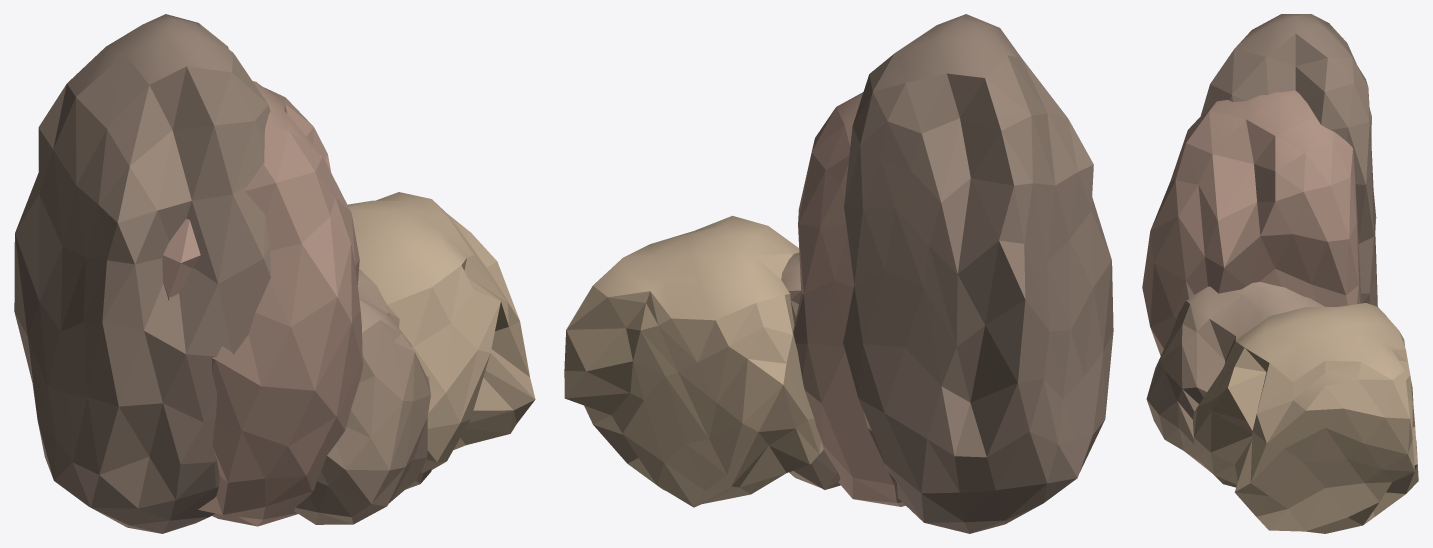
The model's file is Aiguille_3.fbx.
3 views of the same model, side by side, from view 1: azimuth 30°, elevation 25°; view 2: azimuth 150°, elevation 25°; view 3: azimuth 270°, elevation 25° (orthographic). The views are drawn at different scales.
Visible parts, largest first — view 1: Aiguille_3; view 2: Aiguille_3; view 3: Aiguille_3.
Part boxes in pixels (x1,y1,x2,y2): Aiguille_3: (14, 14, 535, 533); Aiguille_3: (564, 14, 1113, 533); Aiguille_3: (1142, 14, 1418, 533).
Bounding box in the file's own units: 245 × 264 × 162.
